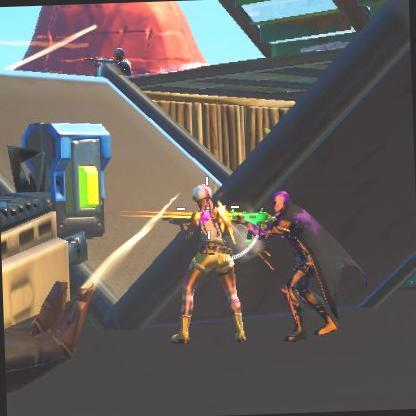person: (252, 191, 324, 314), (183, 182, 239, 326), (106, 51, 130, 81)
